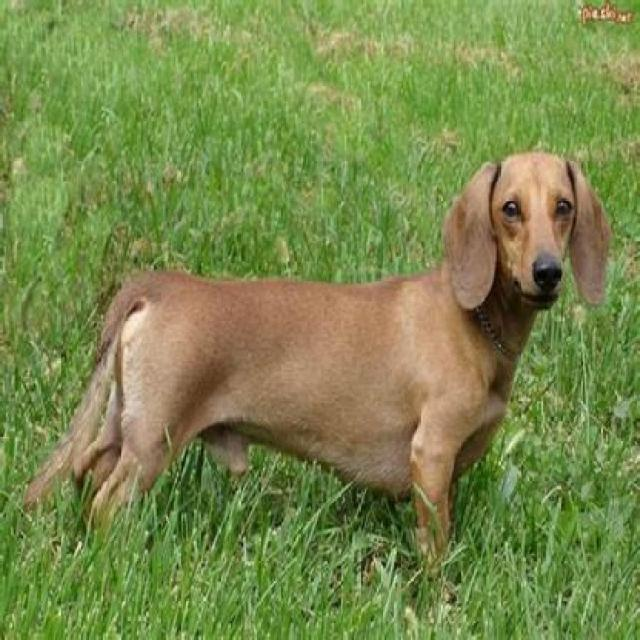Dog: (17, 143, 615, 580)
